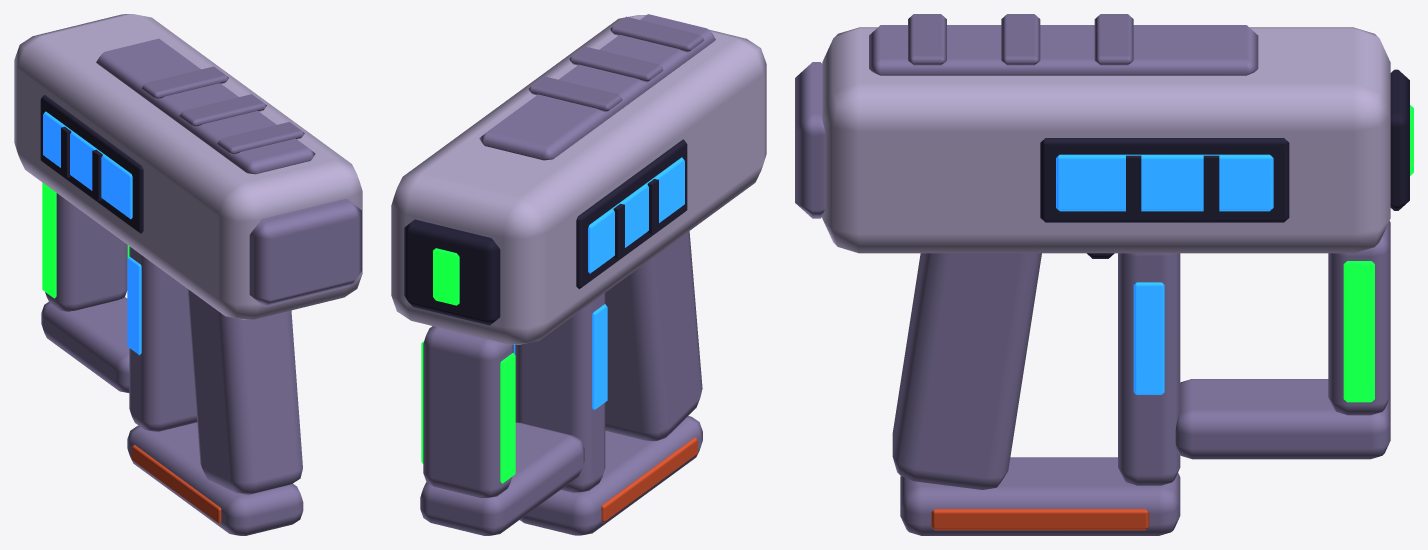
File: stun_gun.glb
3 renders of one model, left to right at view 1: azimuth 30°, elevation 25°; view 2: azimuth 150°, elevation 25°; view 3: azimuth 270°, elevation 25°, orthographic. The views are drawn at different scales.
Visible parts, largest first — view 1: item.stun_gun.body; view 2: item.stun_gun.body; view 3: item.stun_gun.body.
Boxes of the visible parts, x1,y1,x2,y2 form: item.stun_gun.body: (14,14,362,535); item.stun_gun.body: (391,14,766,535); item.stun_gun.body: (795,14,1413,535).
Bounding box in the file's own units: 0.1875 × 0.4313 × 0.4969.
